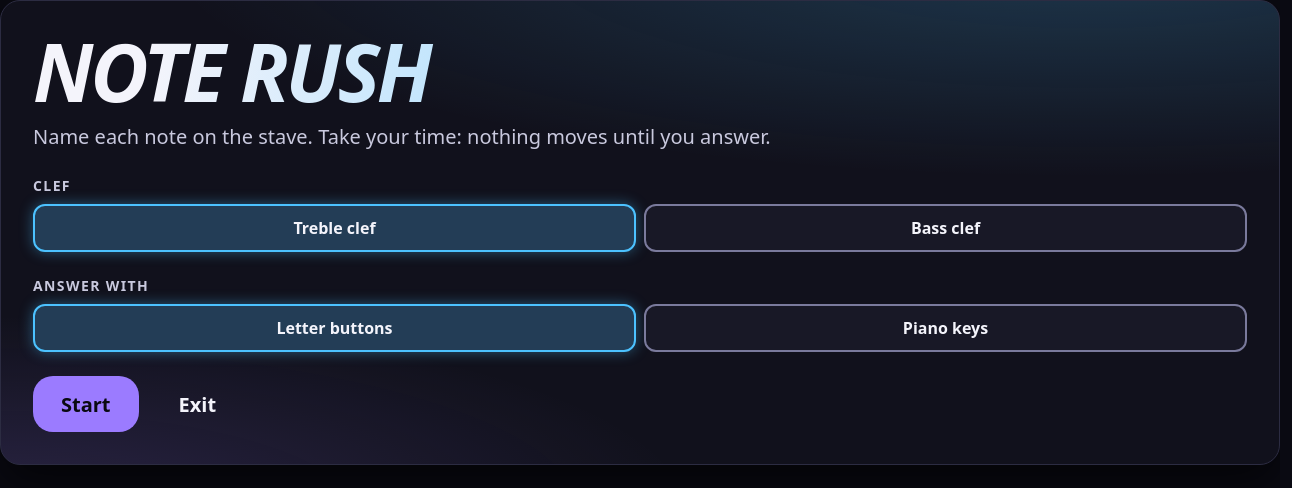
Scenario: untimed round: start -> play -> results › uses the chosen bass clef and shows a different range
This screenshot has width=1292, height=488.
Click the radio button labelled "Bass clef" at (946, 228), box [644,204,1247,252]
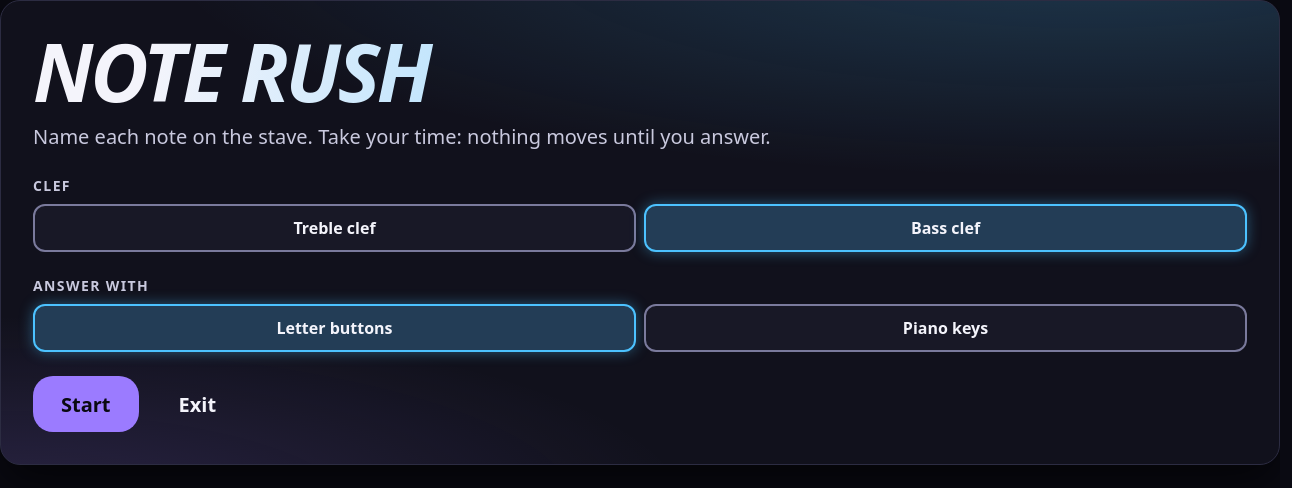
Click the button "Start" at (86, 404), box [33,376,138,432]
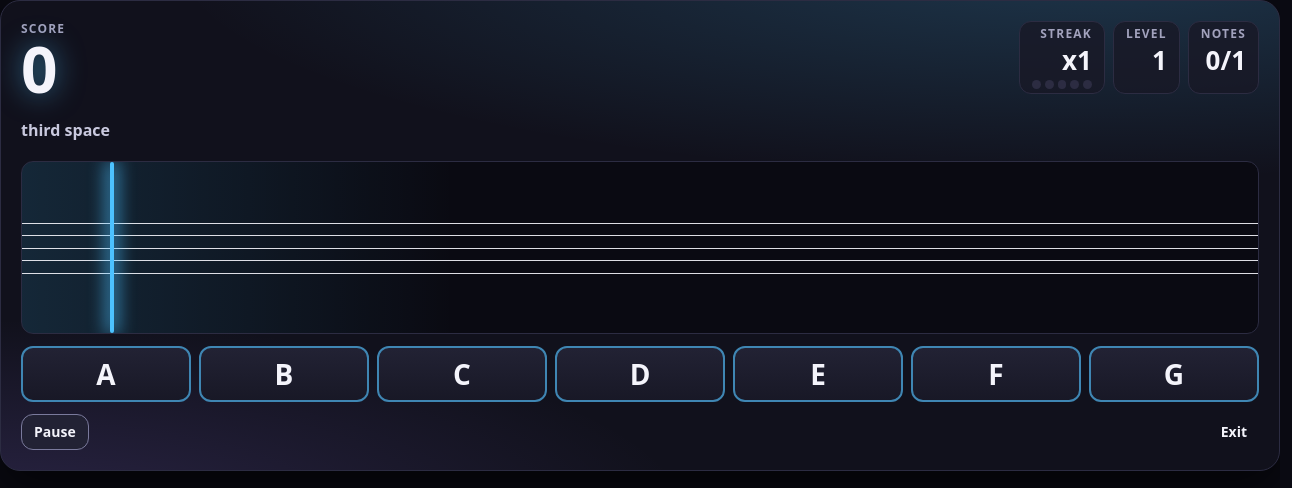
Click the button "E" at (818, 374), box [733,346,903,402]
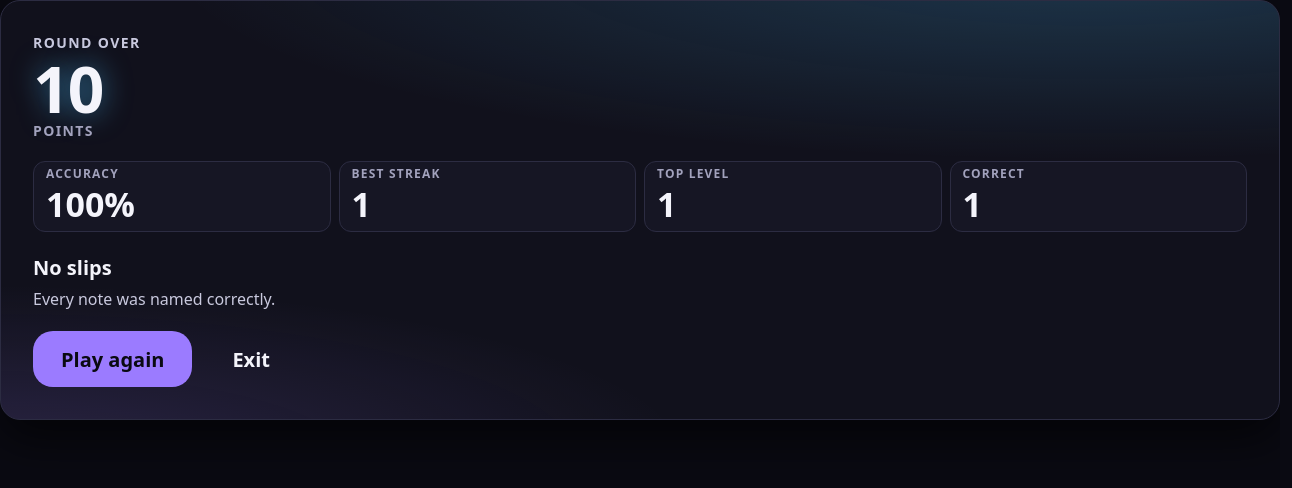
expect the text with test id "nr-final-score" reads "10": met, box [33,45,102,132]
